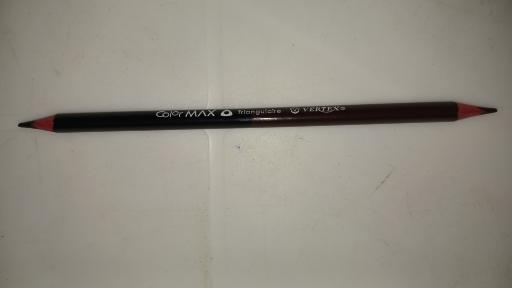Pencil: (15, 102, 497, 134)
